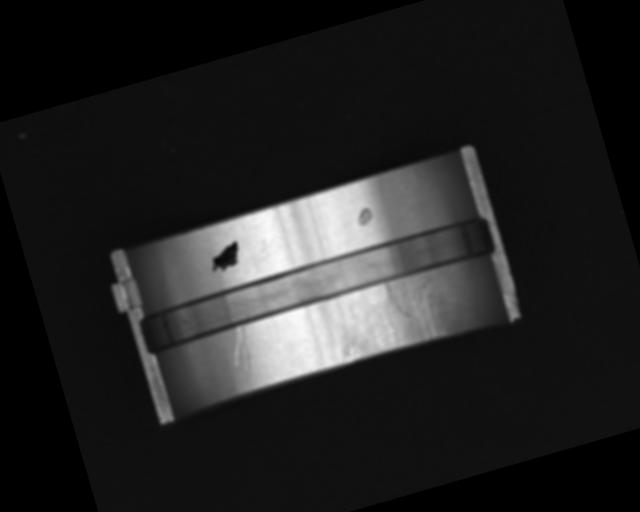blot: (206, 240, 245, 275)
bruise: (353, 204, 376, 227)
gap: (134, 212, 498, 355)
nick: (225, 324, 257, 375)
scratch: (327, 267, 459, 365)
